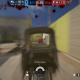Character: (38, 38, 42, 44)
